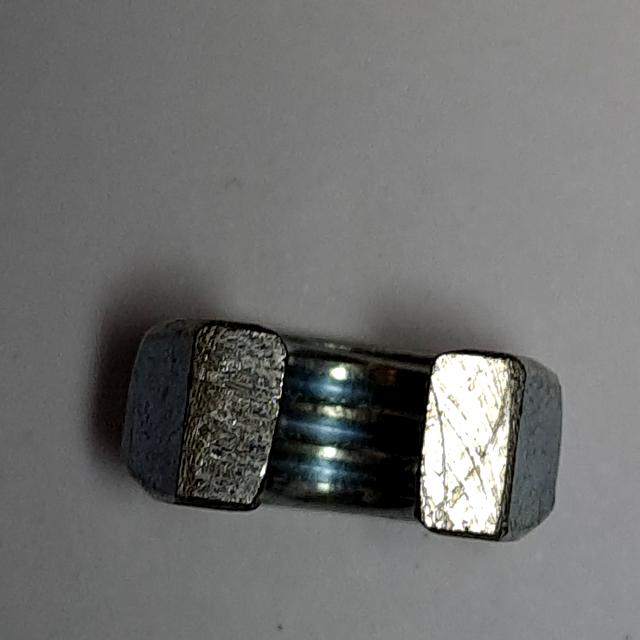Side-Fracture: (103, 307, 580, 556)
